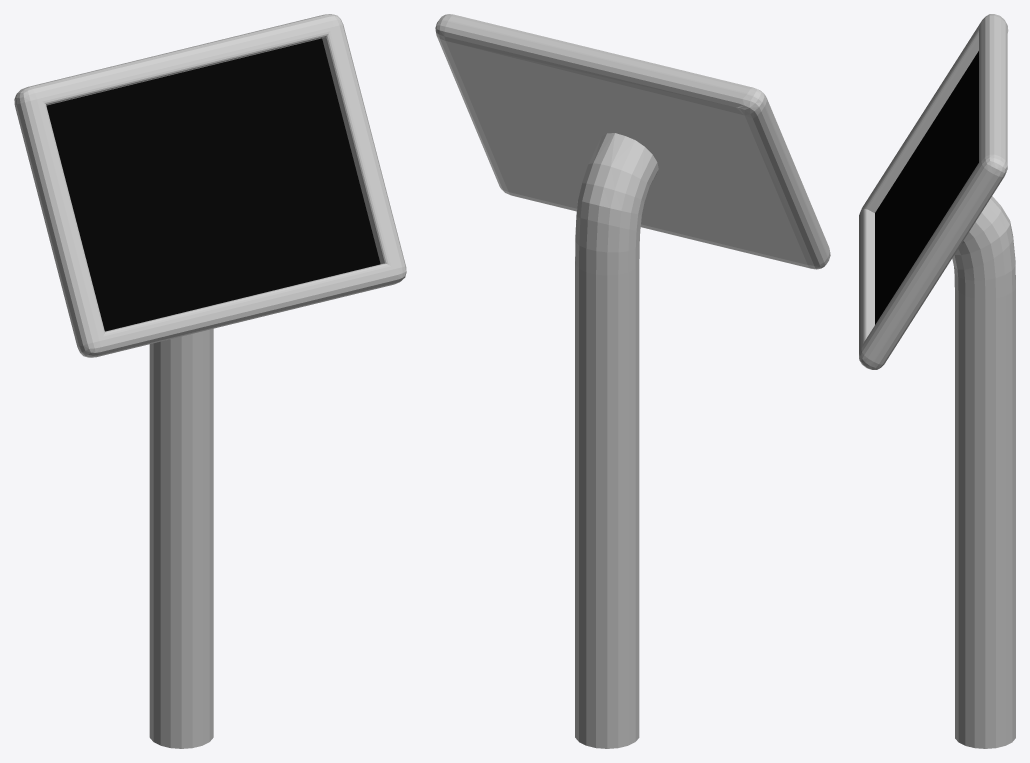
Rendered from tablet.obj.
The picture shows the model from 3 angles, left to right: view 1: azimuth 30°, elevation 25°; view 2: azimuth 150°, elevation 25°; view 3: azimuth 270°, elevation 25°; orthographic projection. The views are drawn at different scales.
Parts seen in each view (by area): view 1: Object003; view 2: Object003; view 3: Object003.
Boxes of the visible parts, x1,y1,x2,y2 form: Object003: (14, 14, 406, 748); Object003: (435, 14, 830, 748); Object003: (859, 14, 1015, 748).
Bounding box in the file's own units: 223 × 447 × 97.56.
